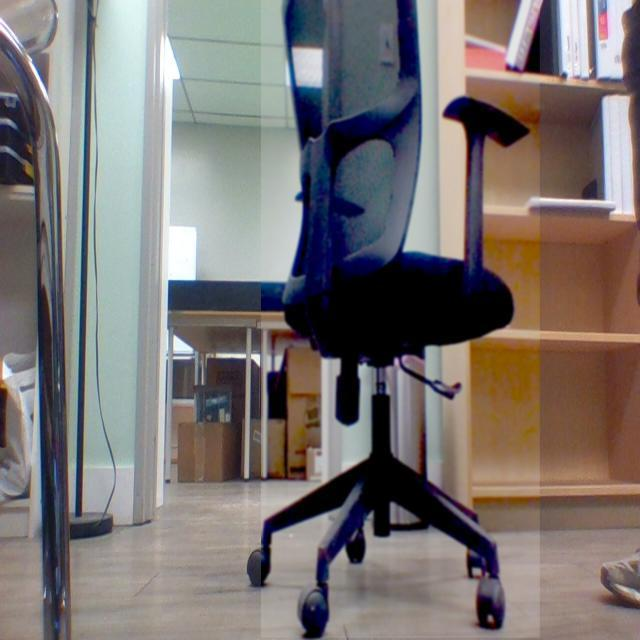chair: (261, 1, 541, 640)
